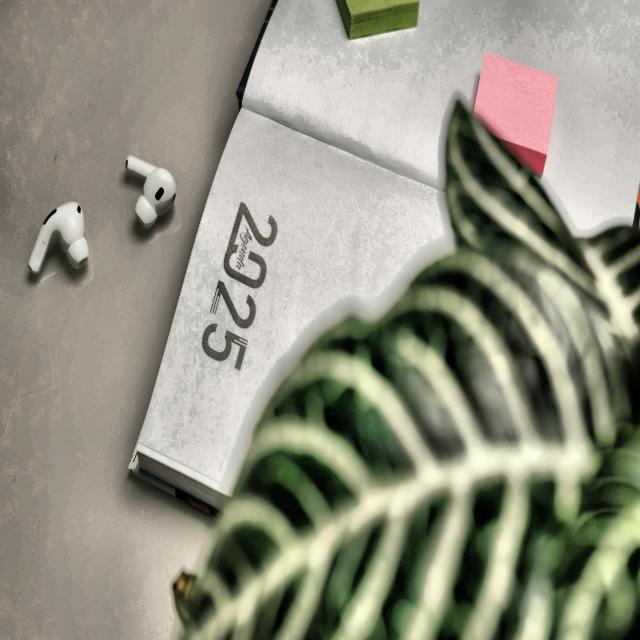Ear_Piece: (25, 141, 180, 289)
